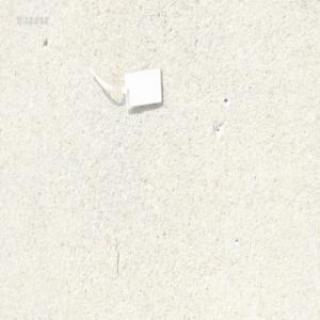LuggageTagtrack_idkeyframe: (86, 62, 163, 111)
